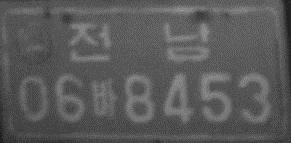0: (18, 74, 49, 124)
3: (238, 71, 272, 127)
4: (163, 73, 194, 123)
5: (200, 71, 232, 123)
6: (52, 72, 86, 125)
8: (124, 72, 155, 123)
바: (91, 76, 118, 121)
영: (14, 20, 54, 65)
전남_D: (67, 20, 212, 63)
